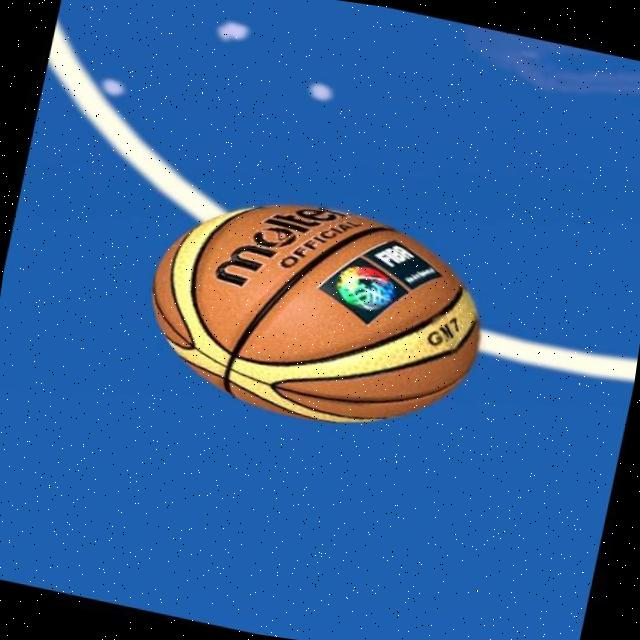ball: (120, 168, 510, 460)
